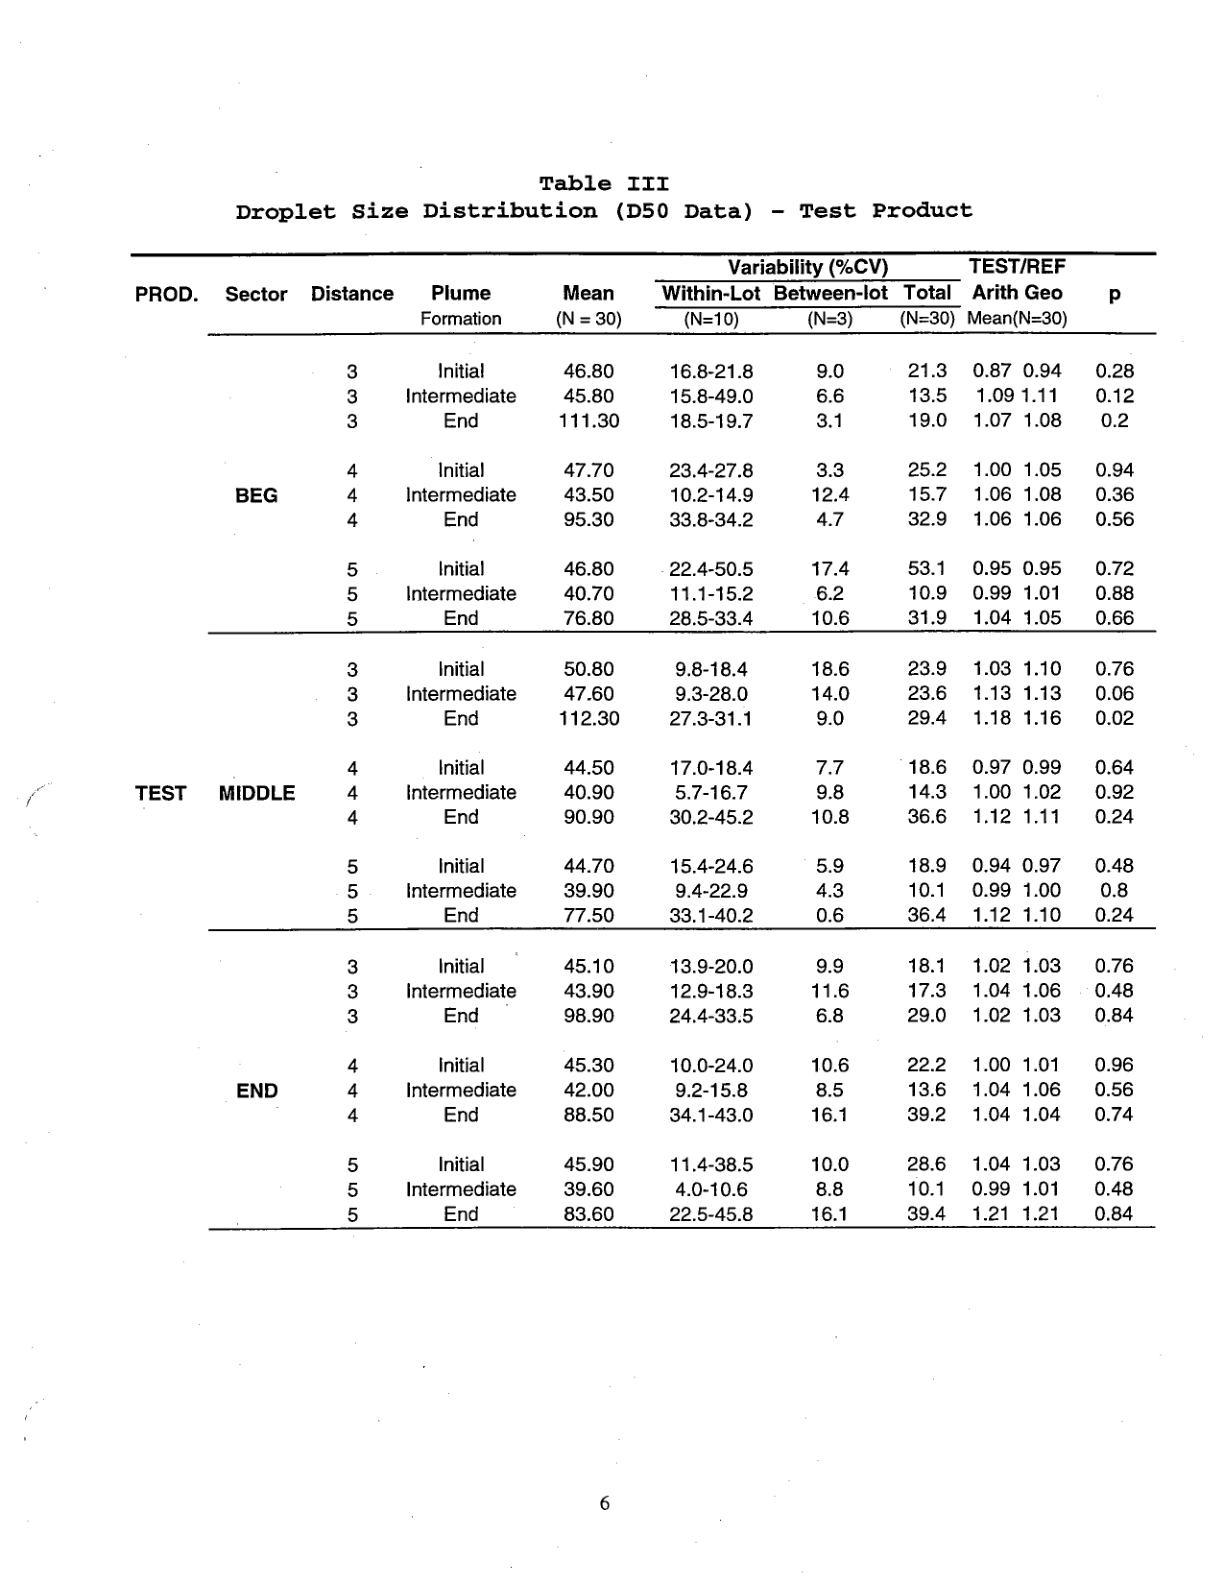partial_lined_merged_cells: (129, 251, 1158, 1232)
